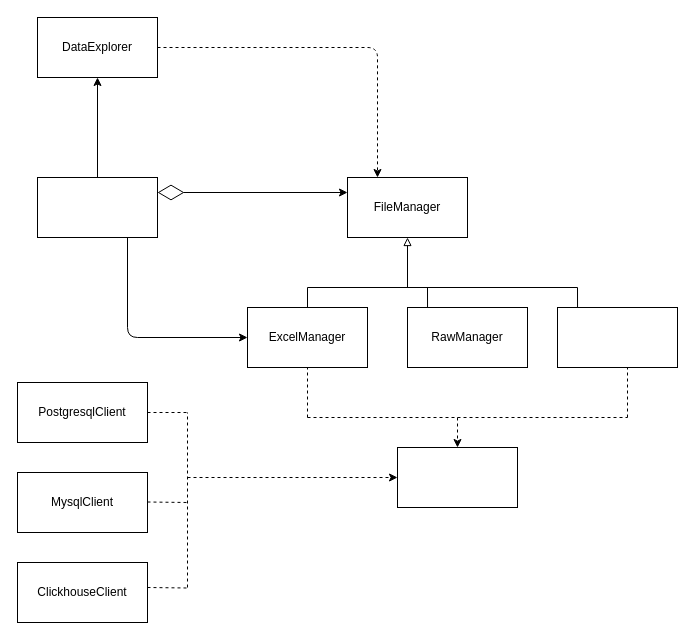
Image size: 695x640. Some labels were removed from this diagram. The centre of each missing label's shape, as x and y in pixels:
"DataReader" goes at point 97,207.
"SetupManager" goes at point 617,337.
"StringUtils" goes at point 457,477.
